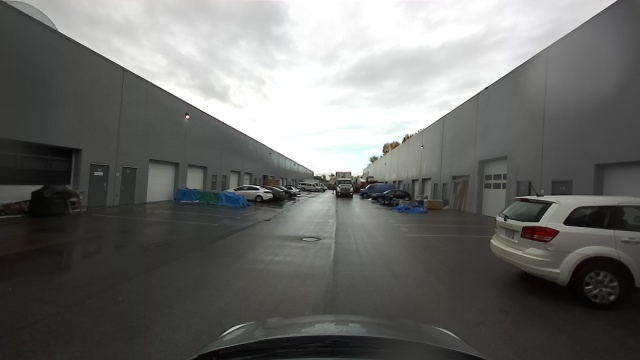car: (488, 176, 636, 315), (226, 184, 272, 203), (331, 169, 357, 200), (371, 189, 413, 203), (360, 183, 397, 198), (299, 179, 328, 192), (274, 188, 288, 203)
